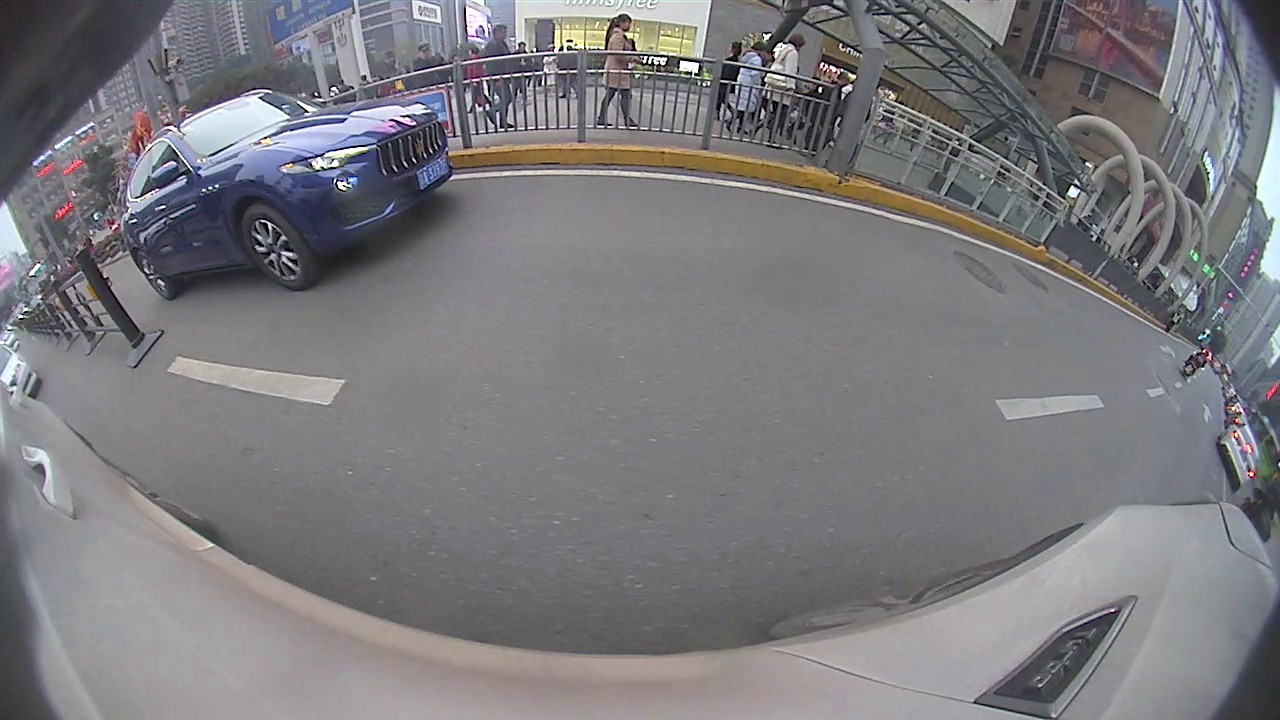car: (118, 87, 457, 301), (1216, 420, 1262, 494)
front: (236, 202, 309, 290)
person: (593, 12, 642, 129)
rear: (132, 251, 172, 303)
